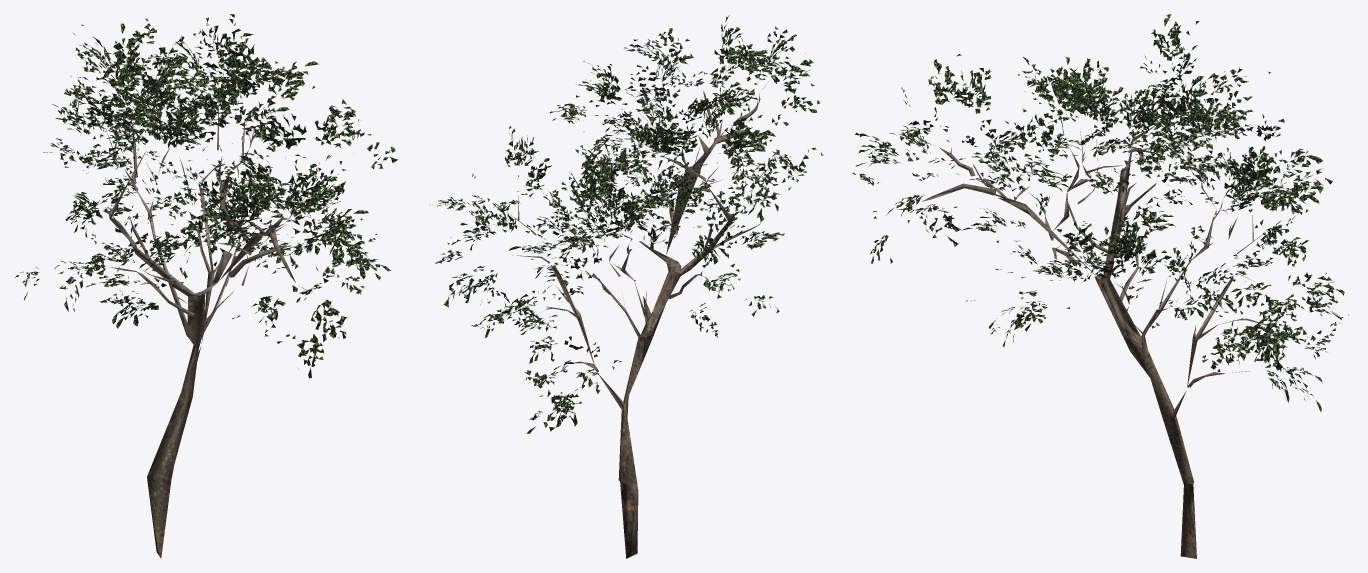
The model's file is tree-near.glb.
The picture shows the model from 3 angles, left to right: view 1: azimuth 30°, elevation 25°; view 2: azimuth 150°, elevation 25°; view 3: azimuth 270°, elevation 25°; orthographic projection. The views are drawn at different scales.
Visible parts, largest first — view 1: tree_small_02_LOD0; view 2: tree_small_02_LOD0; view 3: tree_small_02_LOD0.
Boxes of the visible parts, x1=… form: tree_small_02_LOD0: x1=15, y1=14, x2=398, y2=558; tree_small_02_LOD0: x1=430, y1=15, x2=823, y2=558; tree_small_02_LOD0: x1=852, y1=14, x2=1348, y2=558.
Bounding box in the file's own units: 2.86 × 4.55 × 4.11.
Materials: 3 (3 with a texture image).
